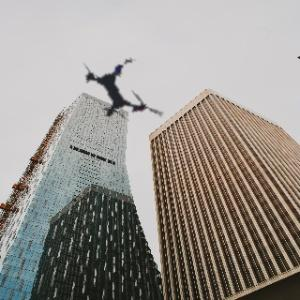drone: (47, 19, 193, 165)
